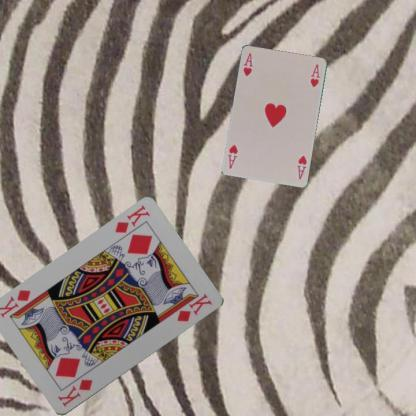Ah: (294, 152, 309, 180), (240, 51, 254, 78)
Kd: (112, 202, 151, 236), (54, 376, 94, 408)
